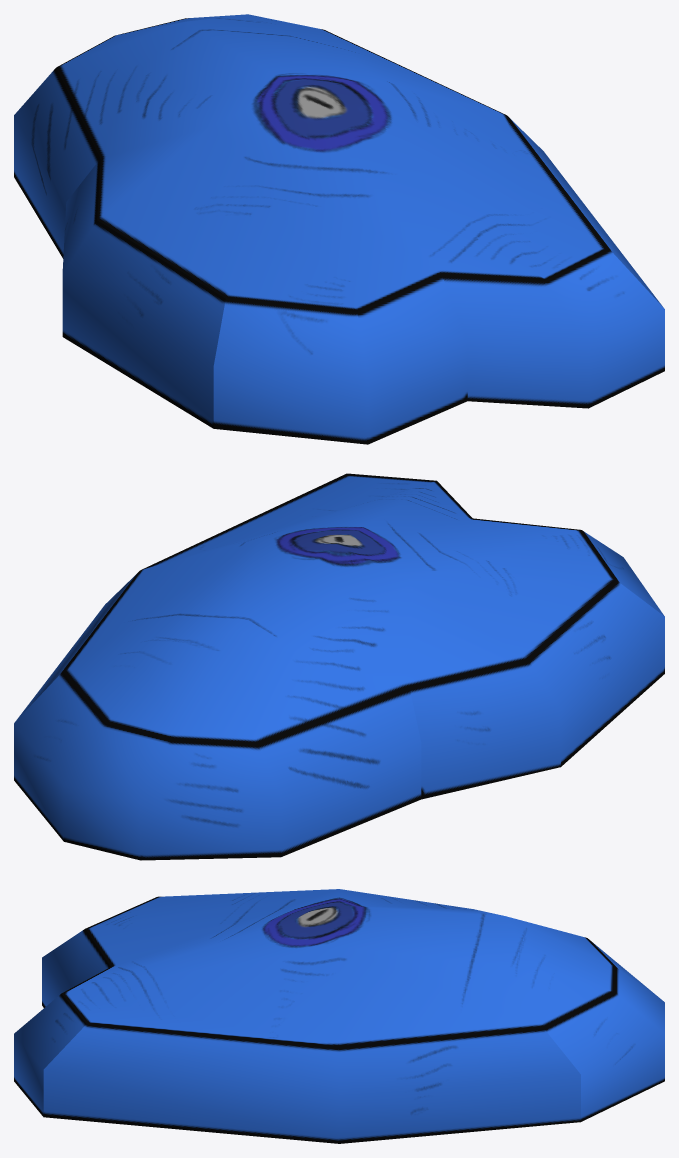
Rendered from Encoche Bleu.fbx.
3 renders of one model, top to bottom at view 1: azimuth 30°, elevation 25°; view 2: azimuth 150°, elevation 25°; view 3: azimuth 270°, elevation 25°, orthographic. The views are drawn at different scales.
Visible parts, largest first — view 1: Encoche blau; view 2: Encoche blau; view 3: Encoche blau.
Part boxes in pixels (box(x1,y1,x2,y2)): Encoche blau: box(14, 14, 664, 444); Encoche blau: box(14, 473, 664, 860); Encoche blau: box(14, 889, 664, 1143).
Size of the model in its own units: 1.12 by 0.4129 by 1.69.
